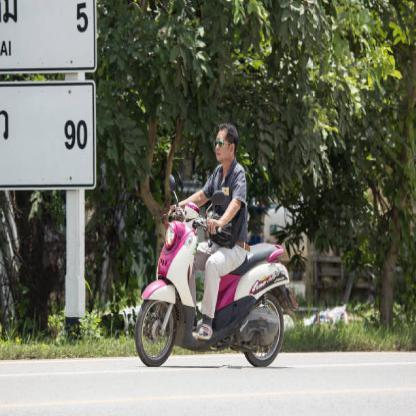Motorcycle: (133, 187, 288, 374)
